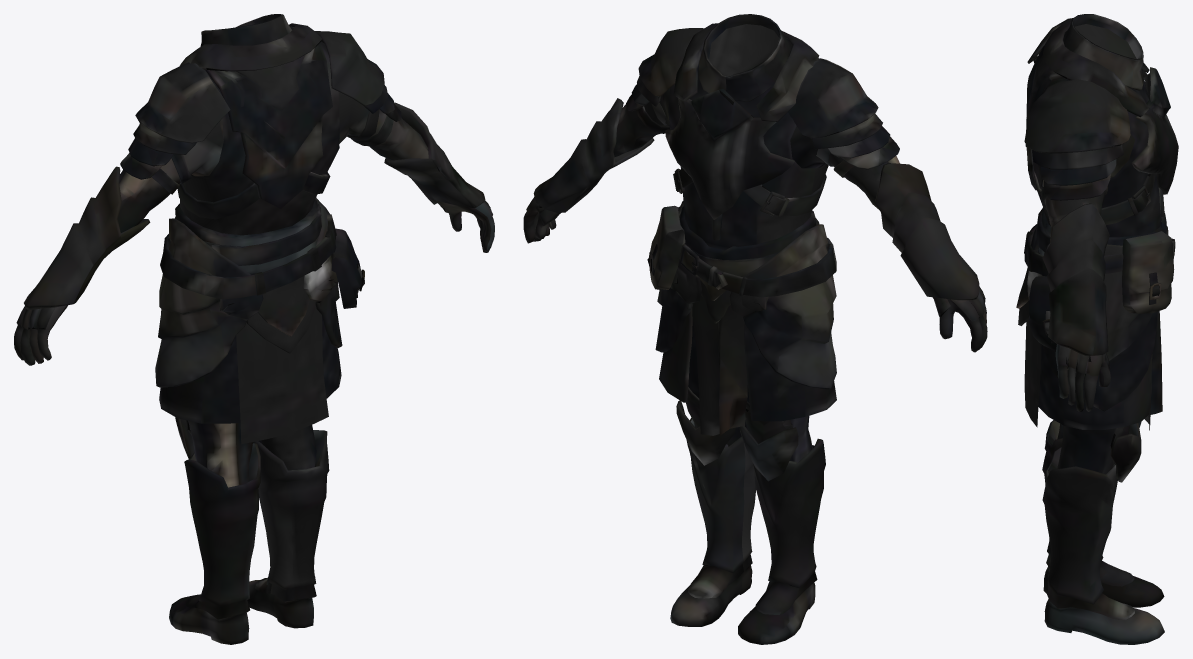
3 views of the same model, side by side, from view 1: azimuth 30°, elevation 25°; view 2: azimuth 150°, elevation 25°; view 3: azimuth 270°, elevation 25° (orthographic). The views are drawn at different scales.
Parts seen in each view (by area): view 1: mesh_0; view 2: mesh_0; view 3: mesh_0.
Boxes of the visible parts, x1,y1,x2,y2 form: mesh_0: (14,14,494,644); mesh_0: (523,14,987,644); mesh_0: (1016,14,1178,644).
Bounding box in the file's own units: 53.34 × 65.33 × 16.19.
1 material, 1 textured.
